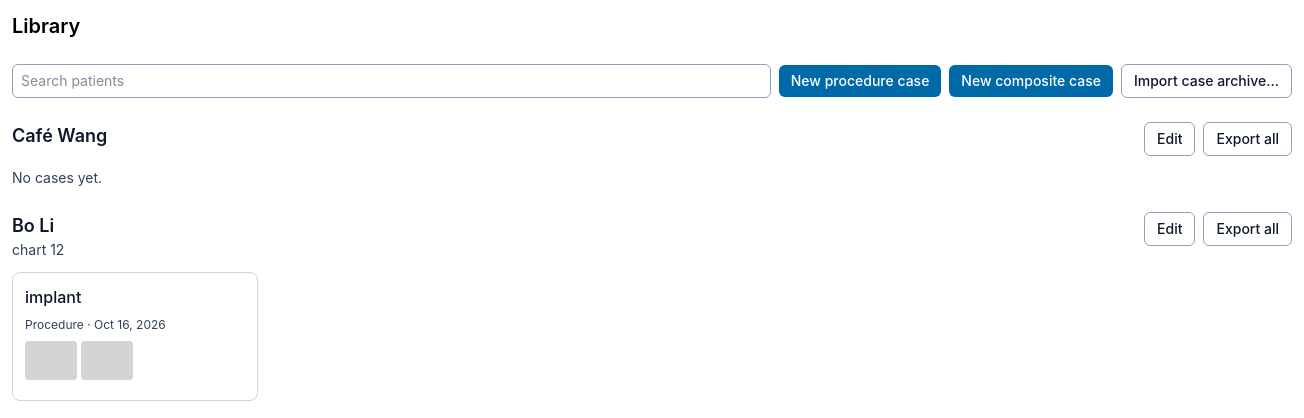
Test case: LibraryScreen › filters patients by name or note, whatever the Unicode form
expect the heading "Bo Li" is shown: met, box [12,215,54,236]
Type "café" into the search field labelled "Search patients" at (391, 81), box [12,64,771,98]
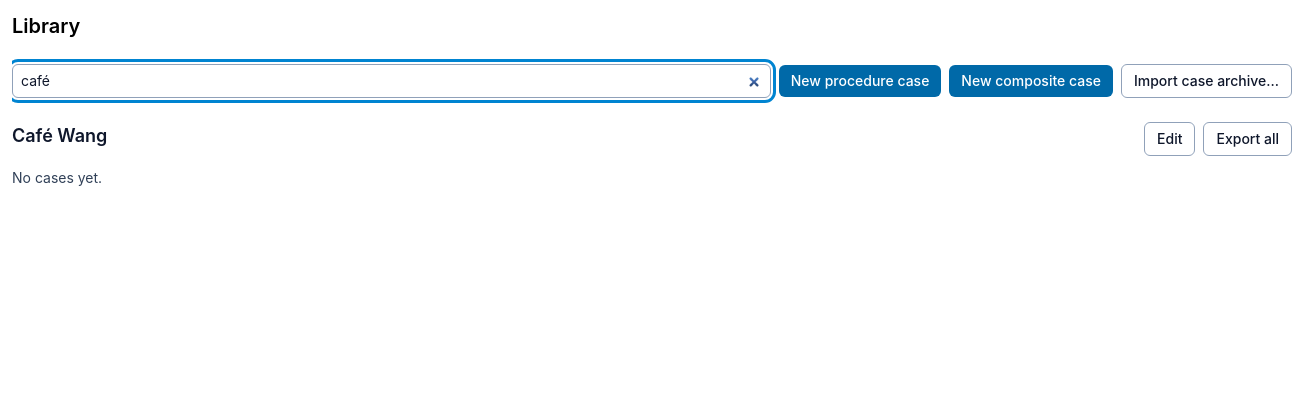
expect the heading "Café Wang" is shown: met, box [12,122,107,150]
expect the heading "Bo Li" is gone: met
Replace the text in the search field with "chart 12" at (391, 81), box [12,64,771,98]
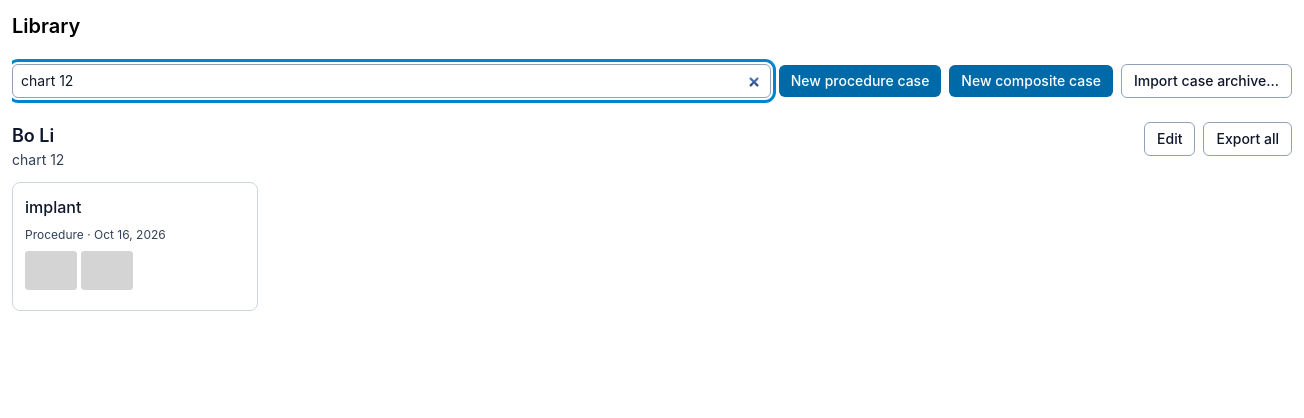
expect the heading "Bo Li" is shown: met, box [12,125,54,146]
expect the heading "Café Wang" is gone: met
